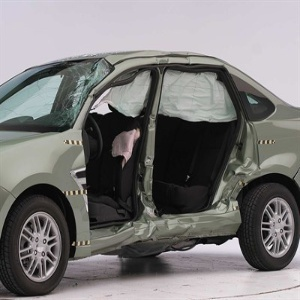door: (85, 115, 242, 244)
